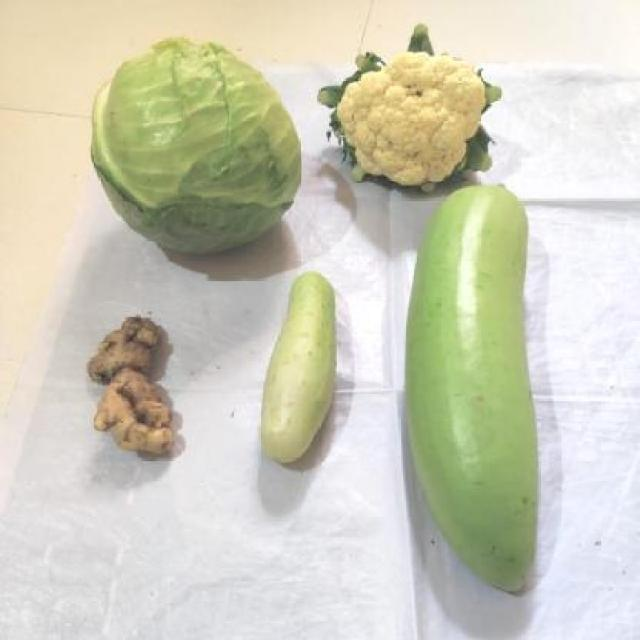Cabbage: (89, 32, 302, 257)
Calabash: (404, 181, 540, 597)
Cauliflower: (322, 29, 496, 189)
Ginger: (89, 315, 182, 457)
cucumber: (263, 274, 339, 468)
